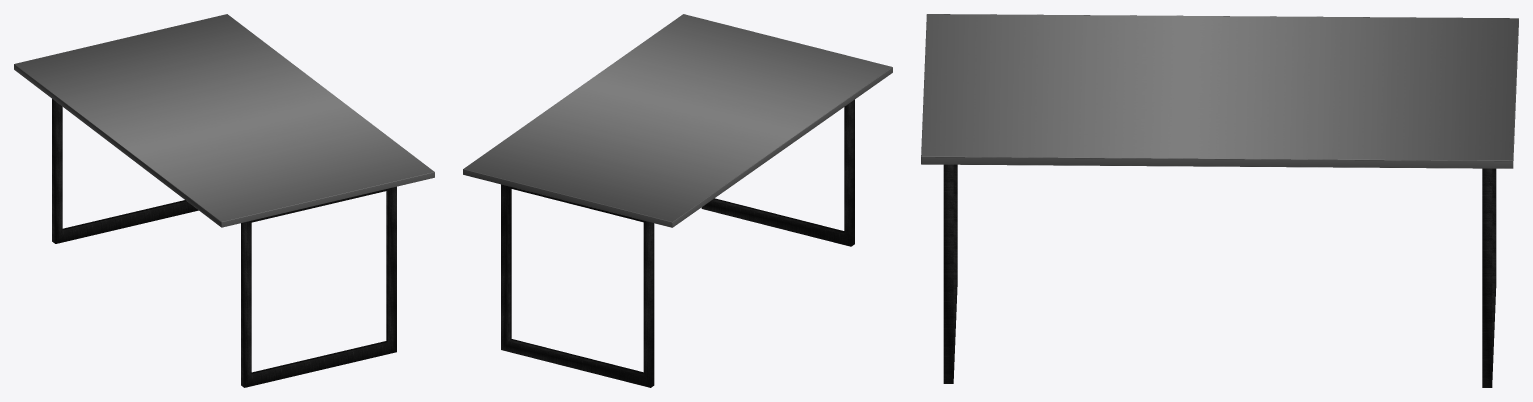
The model's file is conpany115.gltf.
The picture shows the model from 3 angles, left to right: view 1: azimuth 30°, elevation 25°; view 2: azimuth 150°, elevation 25°; view 3: azimuth 270°, elevation 25°; orthographic projection. The views are drawn at different scales.
Visible parts, largest first — view 1: 3DGeom~1_Defintion#3_1, 3DGeom~1_Defintion#3_2; view 2: 3DGeom~1_Defintion#3_1, 3DGeom~1_Defintion#3_2; view 3: 3DGeom~1_Defintion#3_1, 3DGeom~1_Defintion#3_2.
Part boxes in pixels (x1,y1,x2,y2): 3DGeom~1_Defintion#3_1: (14, 14, 434, 227); 3DGeom~1_Defintion#3_2: (52, 99, 396, 387); 3DGeom~1_Defintion#3_1: (463, 14, 892, 227); 3DGeom~1_Defintion#3_2: (501, 99, 854, 387); 3DGeom~1_Defintion#3_1: (921, 14, 1518, 168); 3DGeom~1_Defintion#3_2: (943, 164, 1496, 387).
Bounding box in the file's own units: 9 × 7.07 × 15.46.
Materials: 2 (2 with a texture image).
